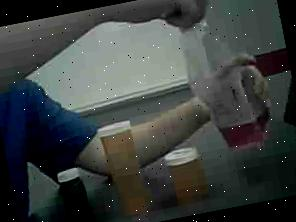Bottle A: (93, 115, 154, 222)
Bottle B: (162, 146, 213, 211)
Bottle C: (53, 165, 96, 222)
hazard: (169, 0, 287, 149)
